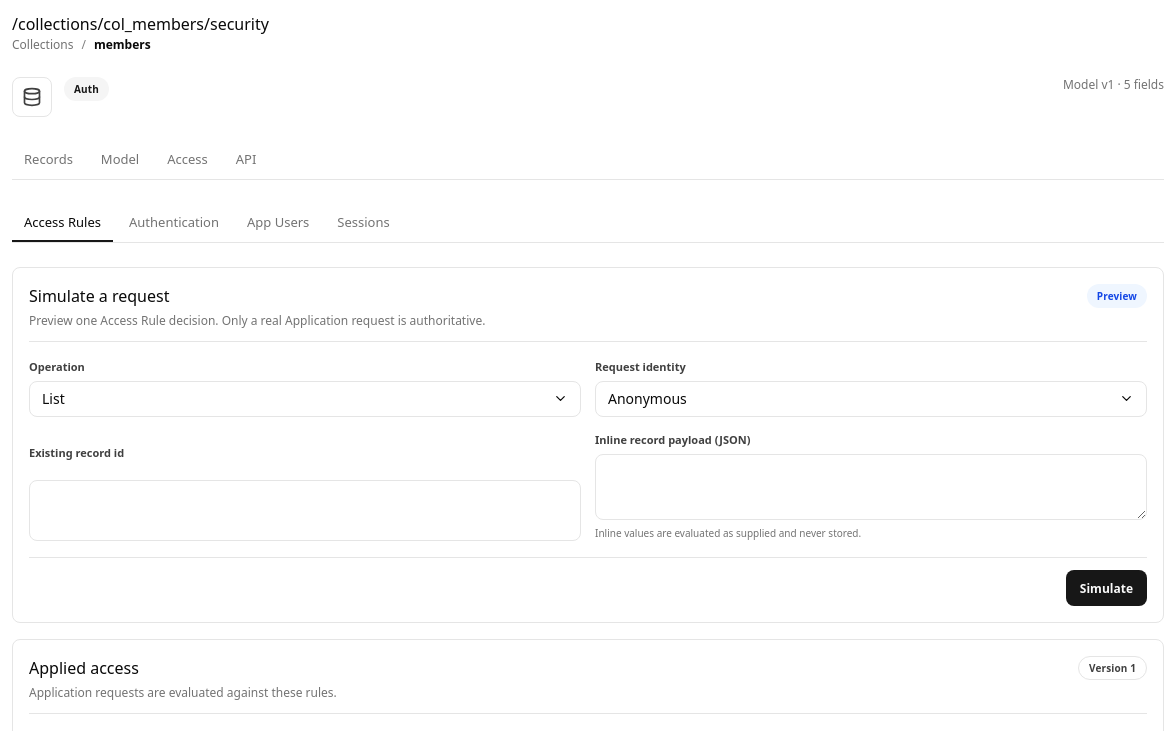
Collection Records and Security pages › uses user-facing request identity wording in English
Expected: the heading "Simulate a request" is shown, x1=29 y1=285 x2=170 y2=307
Click the dropdown named "Request identity".
click(647, 398)  # box x1=595 y1=381 x2=1147 y2=417
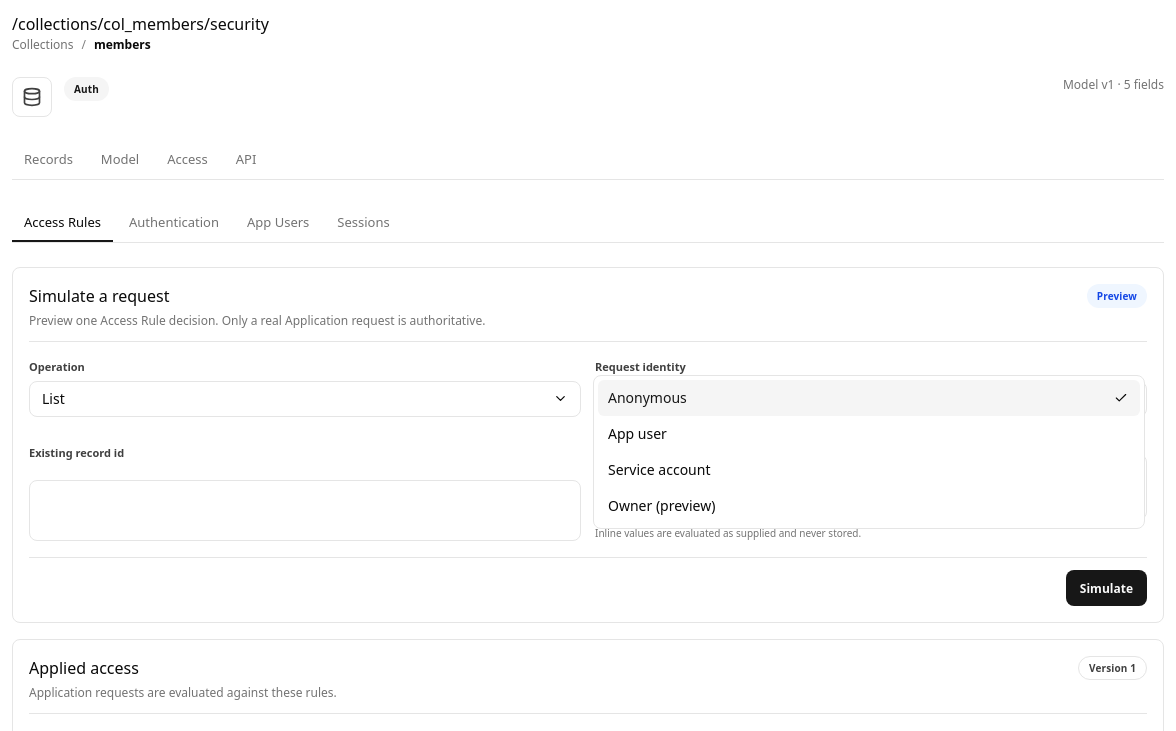
Now the option "Owner (preview)" is shown, box x1=608 y1=496 x2=715 y2=515
Press Escape
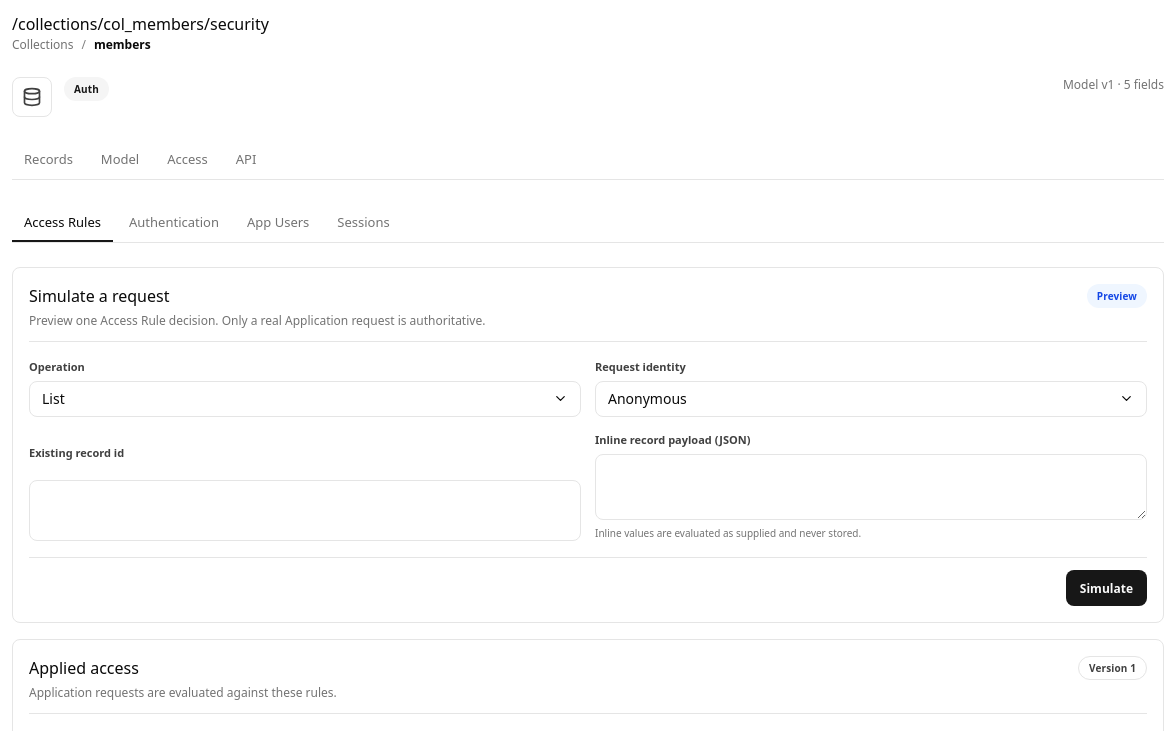
Click the dropdown named "Request identity".
click(647, 398)  # box x1=595 y1=381 x2=1147 y2=417
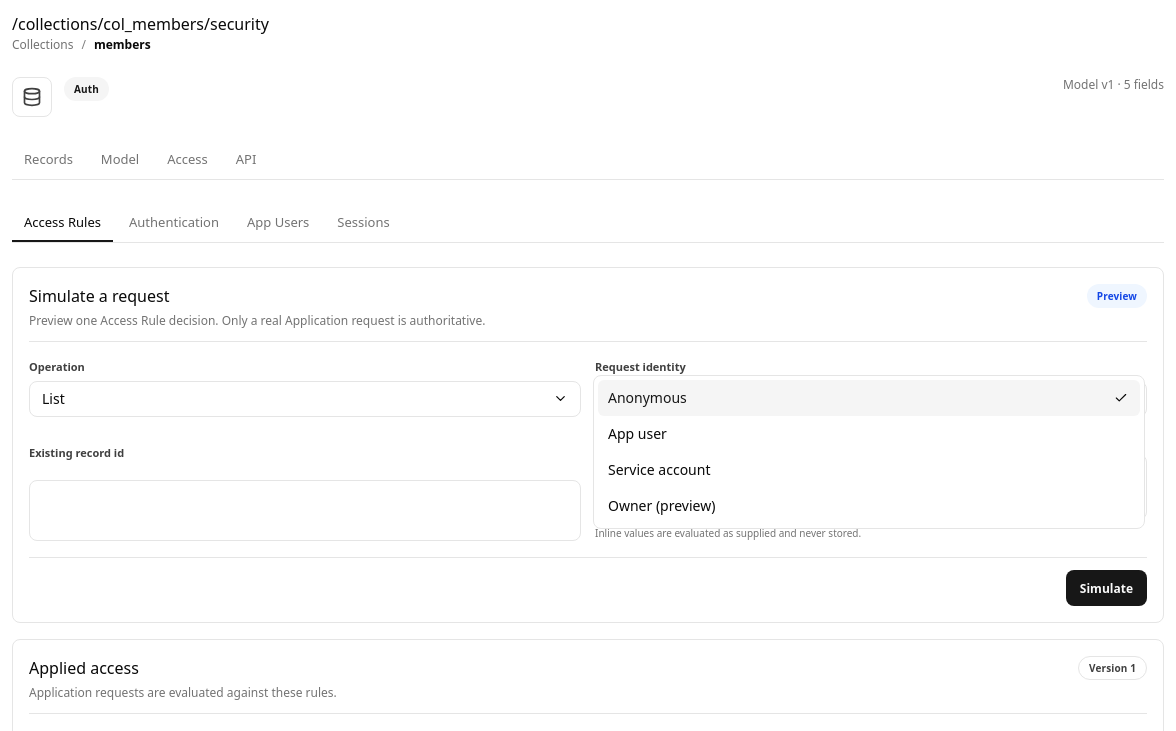
Click the option "Service account".
click(659, 469)  # box x1=608 y1=460 x2=710 y2=479
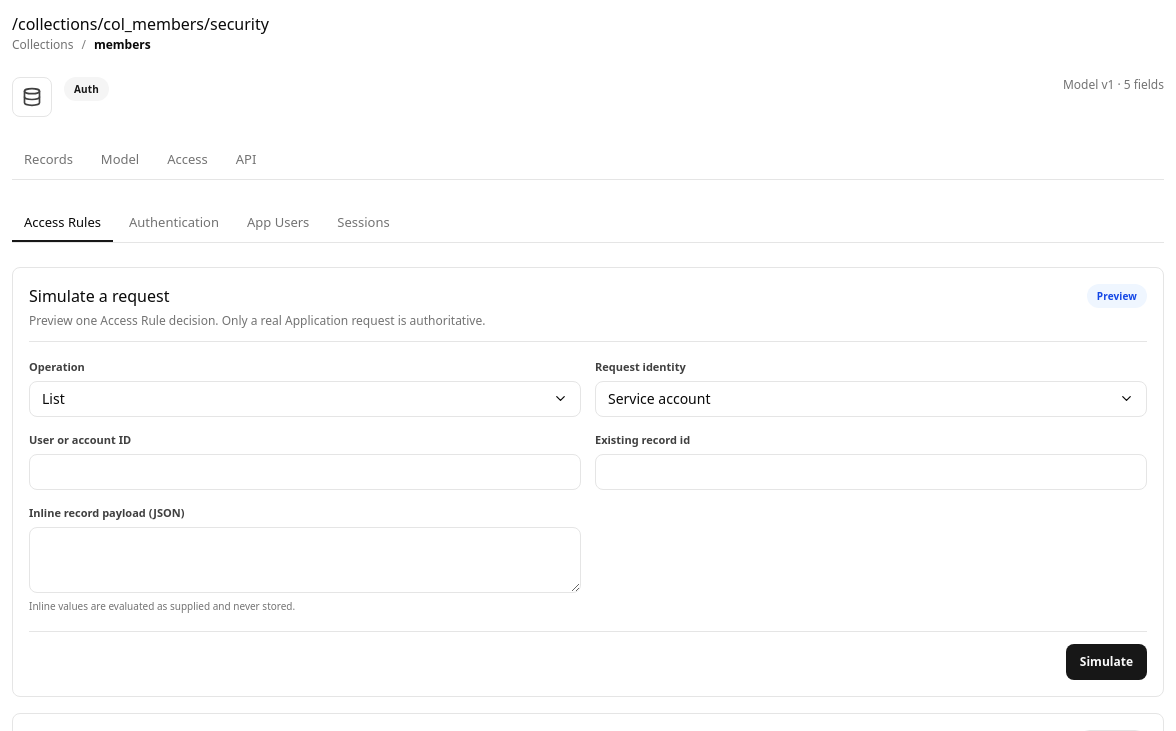
Now the field labelled "User or account ID" is shown, box x1=29 y1=454 x2=581 y2=490
